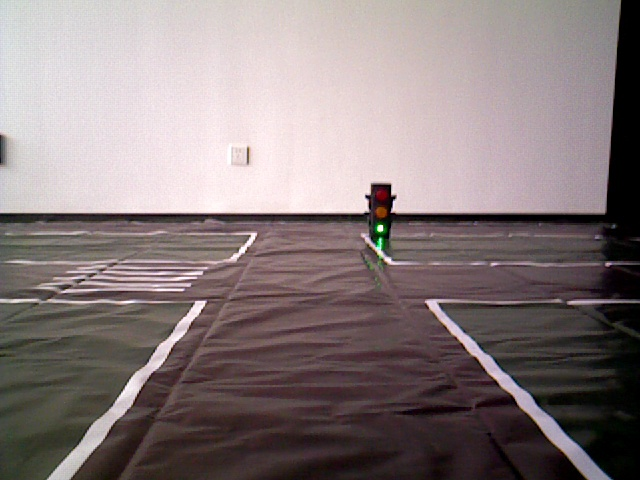green: (370, 187, 390, 231)
